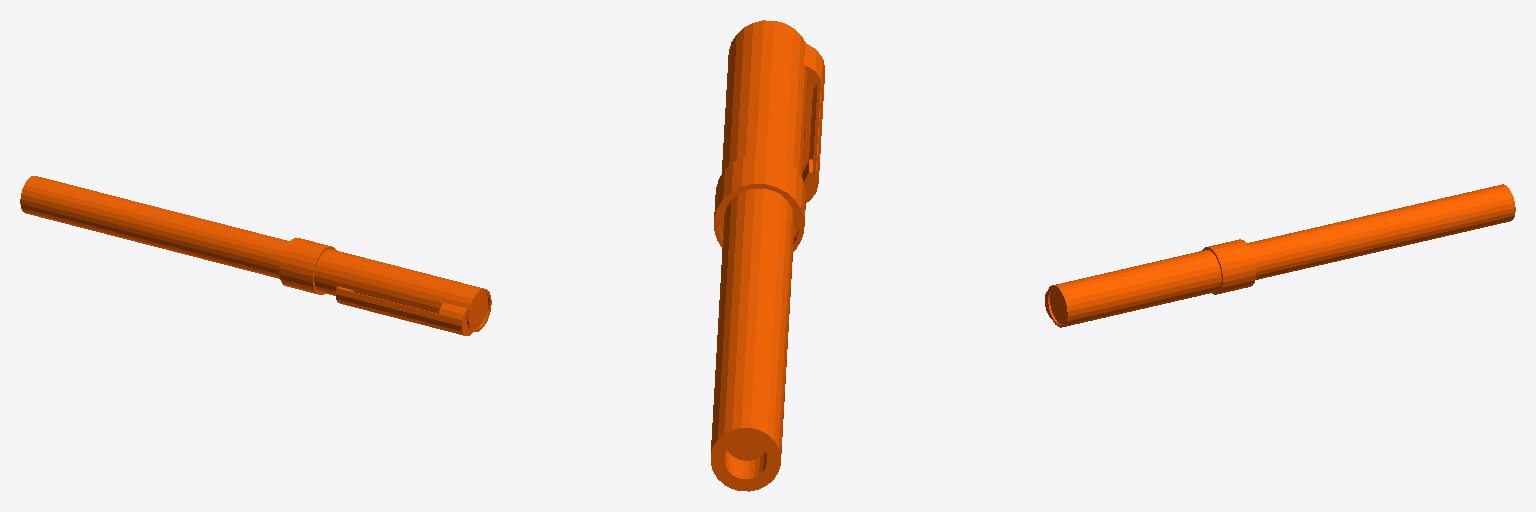
robot.urdf — Pen_9b8f8d44c306d95334fab193b1674675:
<?xml version="1.0" ?>
<robot name="Pen_9b8f8d44c306d95334fab193b1674675">
   <material name="obj_color">
      <color rgba="1.0 0.423529411765 0.0392156862745 1.0"/>
   </material>
   <link name="top">
      <inertial>
         <origin rpy="6.698681998343473e-07 4.819459670028586e-05 4.827268622713455e-05" xyz="0.001904563999863507 -0.00369626554605089 -3.039942940126992e-05"/>
         <mass value="0.02509491010864084"/>
         <inertia ixx="3.758607951480007e-05" ixy="1.979893481709205e-05" ixz="3.868645072139232e-08" iyy="1.128891353578054e-05" iyz="-1.277354625686611e-07" izz="4.826215807667416e-05"/>
      </inertial>
      <visual>
         <origin rpy="0 0 0" xyz="0 0 0"/>
         <geometry>
            <mesh filename="top_watertight_tiny.stl" scale="1 1 1"/>
         </geometry>
         <material name="obj_color"/>
      </visual>
      <collision>
         <origin rpy="0 0 0" xyz="0 0 0"/>
         <geometry>
            <mesh filename="top_watertight_tiny.obj" scale="1 1 1"/>
         </geometry>
      </collision>
   </link>
   <link name="bottom">
      <inertial>
         <origin rpy="1.633333333199431e-08 1.633333333199431e-08 1.633333333362855e-08" xyz="0.3464080000000008 0.3464080000000008 0.3464080000000008"/>
         <mass value="0.0009800000000000017"/>
         <inertia ixx="1.633333333253906e-08" ixy="5.447480642029219e-19" ixz="5.447480642029219e-19" iyy="1.633333333253906e-08" iyz="5.447480642029219e-19" izz="1.633333333253906e-08"/>
      </inertial>
      <visual>
         <origin rpy="0 0 0" xyz="0 0 0"/>
         <geometry>
            <mesh filename="bottom_watertight_tiny.stl" scale="1 1 1"/>
         </geometry>
         <material name="obj_color"/>
      </visual>
   </link>
   <link name="world"/>
   <joint name="world_to_base" type="fixed">
      <origin xyz="0 0 0"/>
      <axis xyz="0 0 0"/>
      <parent link="world"/>
      <child link="bottom"/>
   </joint>
   <joint name="rotation" type="revolute">
      <origin xyz="0 0 0"/>
      <axis xyz="0 0 -1"/>
      <parent link="bottom"/>
      <child link="top"/>
      <dynamics damping="1.0" friction="1.0"/>
      <limit effort="0.1" velocity="0.1" lower="0" upper="0.001"/>
   </joint>
</robot>

--- Render facts (derived) ---
Views: 3 orthographic renders of the robot side by side, from view 1: azimuth 30°, elevation 25°; view 2: azimuth 150°, elevation 25°; view 3: azimuth 270°, elevation 25°.
Robot: Pen_9b8f8d44c306d95334fab193b1674675 — 3 links, 2 joints (1 revolute, 1 fixed); root link world; default pose: every joint at zero.
Visible links, largest first — view 1: top; view 2: top; view 3: top.
Link boxes in pixels (x1,y1,x2,y2): top: (20,176,491,335); top: (711,20,824,491); top: (1045,184,1515,327).
Bounding box of the posed robot: 0.0869 × 0.1458 × 0.015 m (x, y, z).
1 mesh visuals loaded from 2 distinct referenced files (1 binary STL); not drawn: 1 (reference not matched to a file when rendering).
